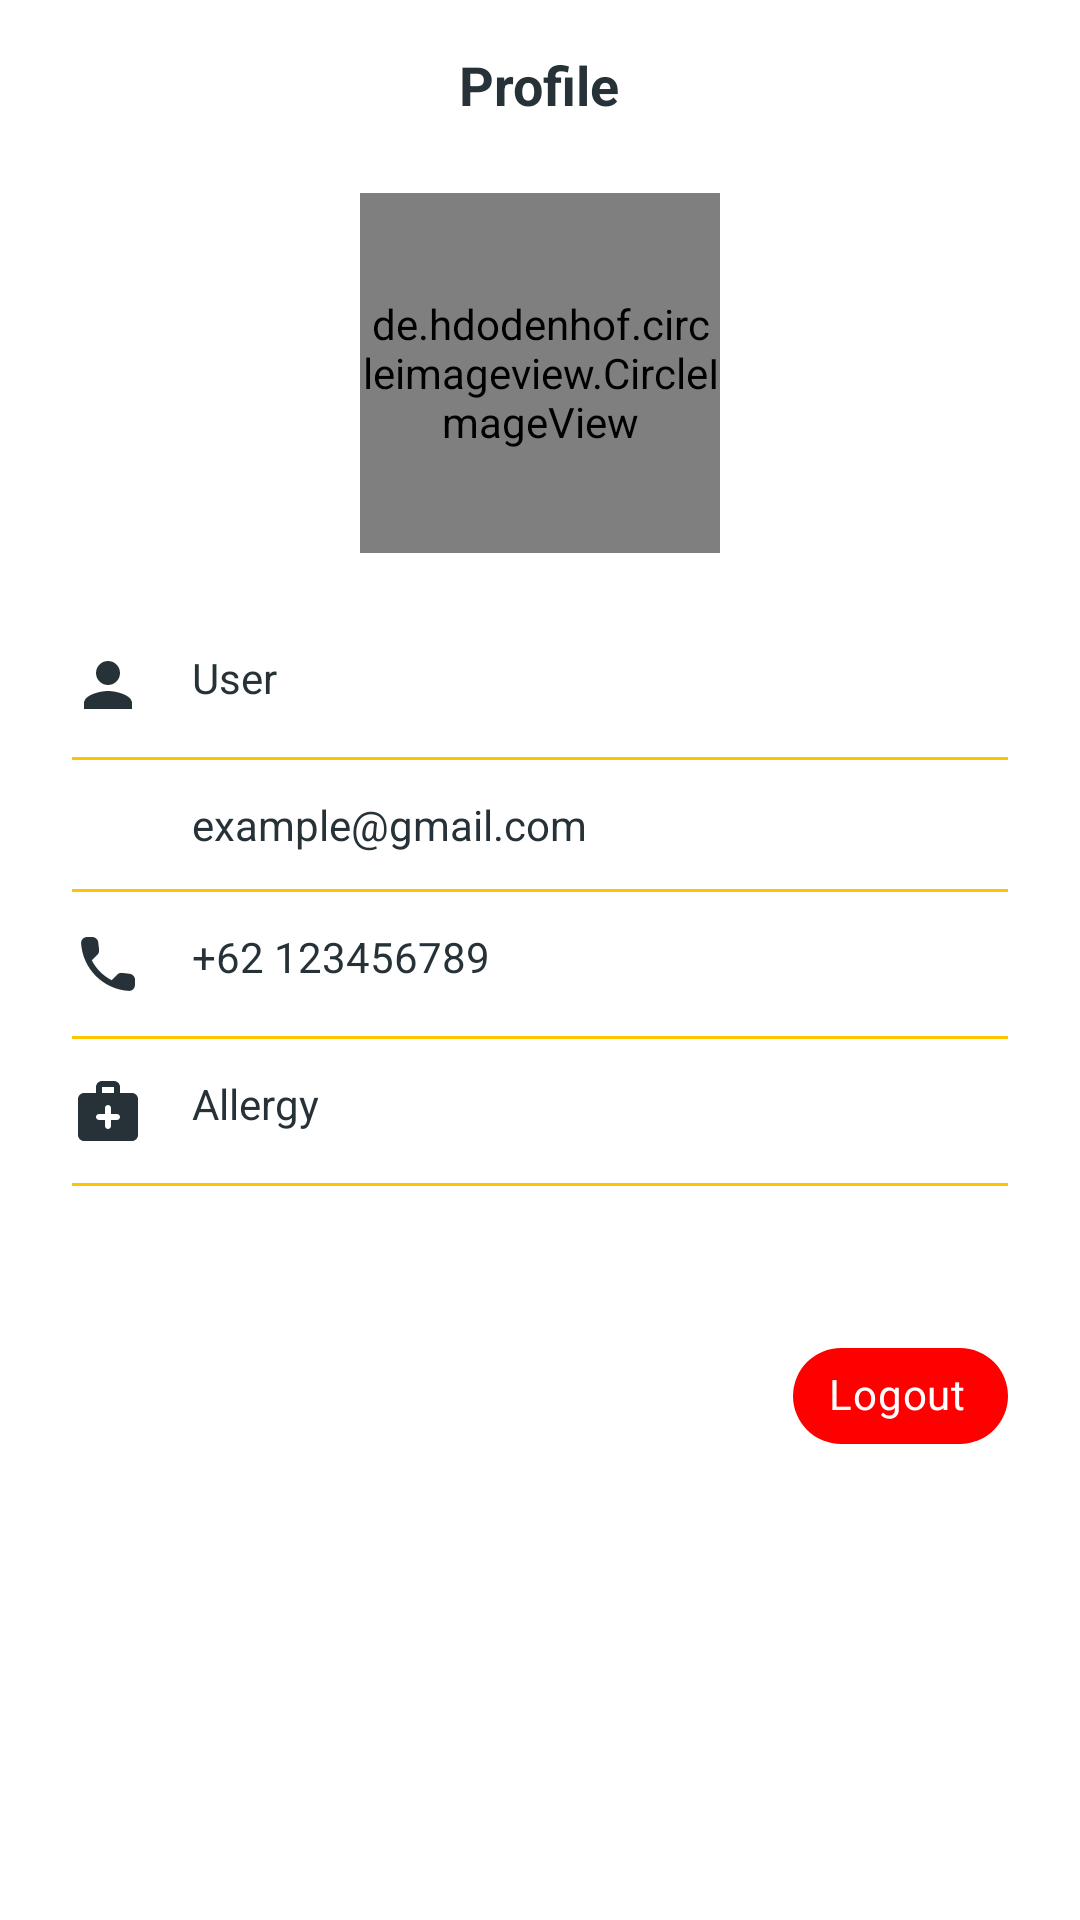

Locate icon controls on the screen. Image size 1080×1920, boxes as (x1, y1, x2, y2).
medical services: (78, 1081, 138, 1141)
person: (84, 661, 132, 709)
phone: (81, 937, 135, 991)
